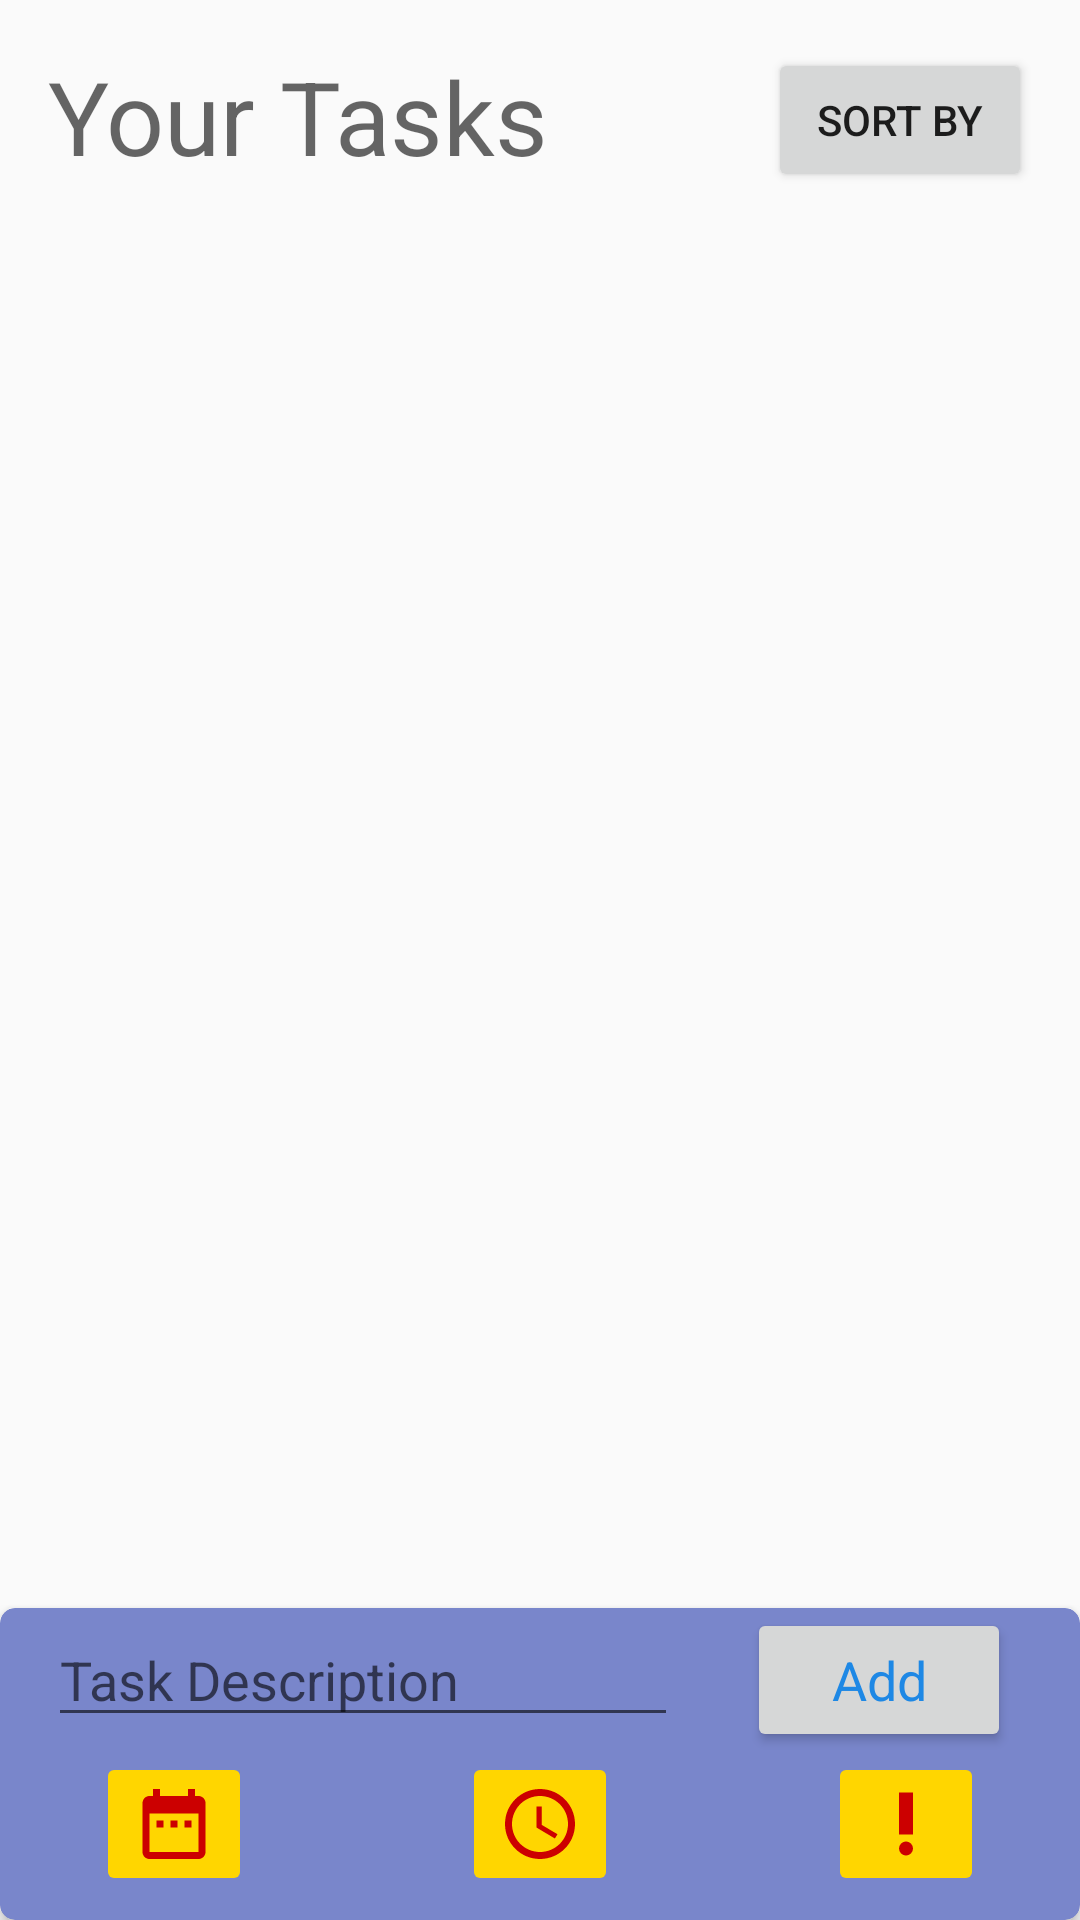

Locate icon controls on the screen. Image size 1080 x 1920, boxes as (x1, y1, x2, y2).
access time: (474, 1770, 606, 1878)
date range: (108, 1770, 240, 1878)
priority high: (840, 1770, 972, 1878)
